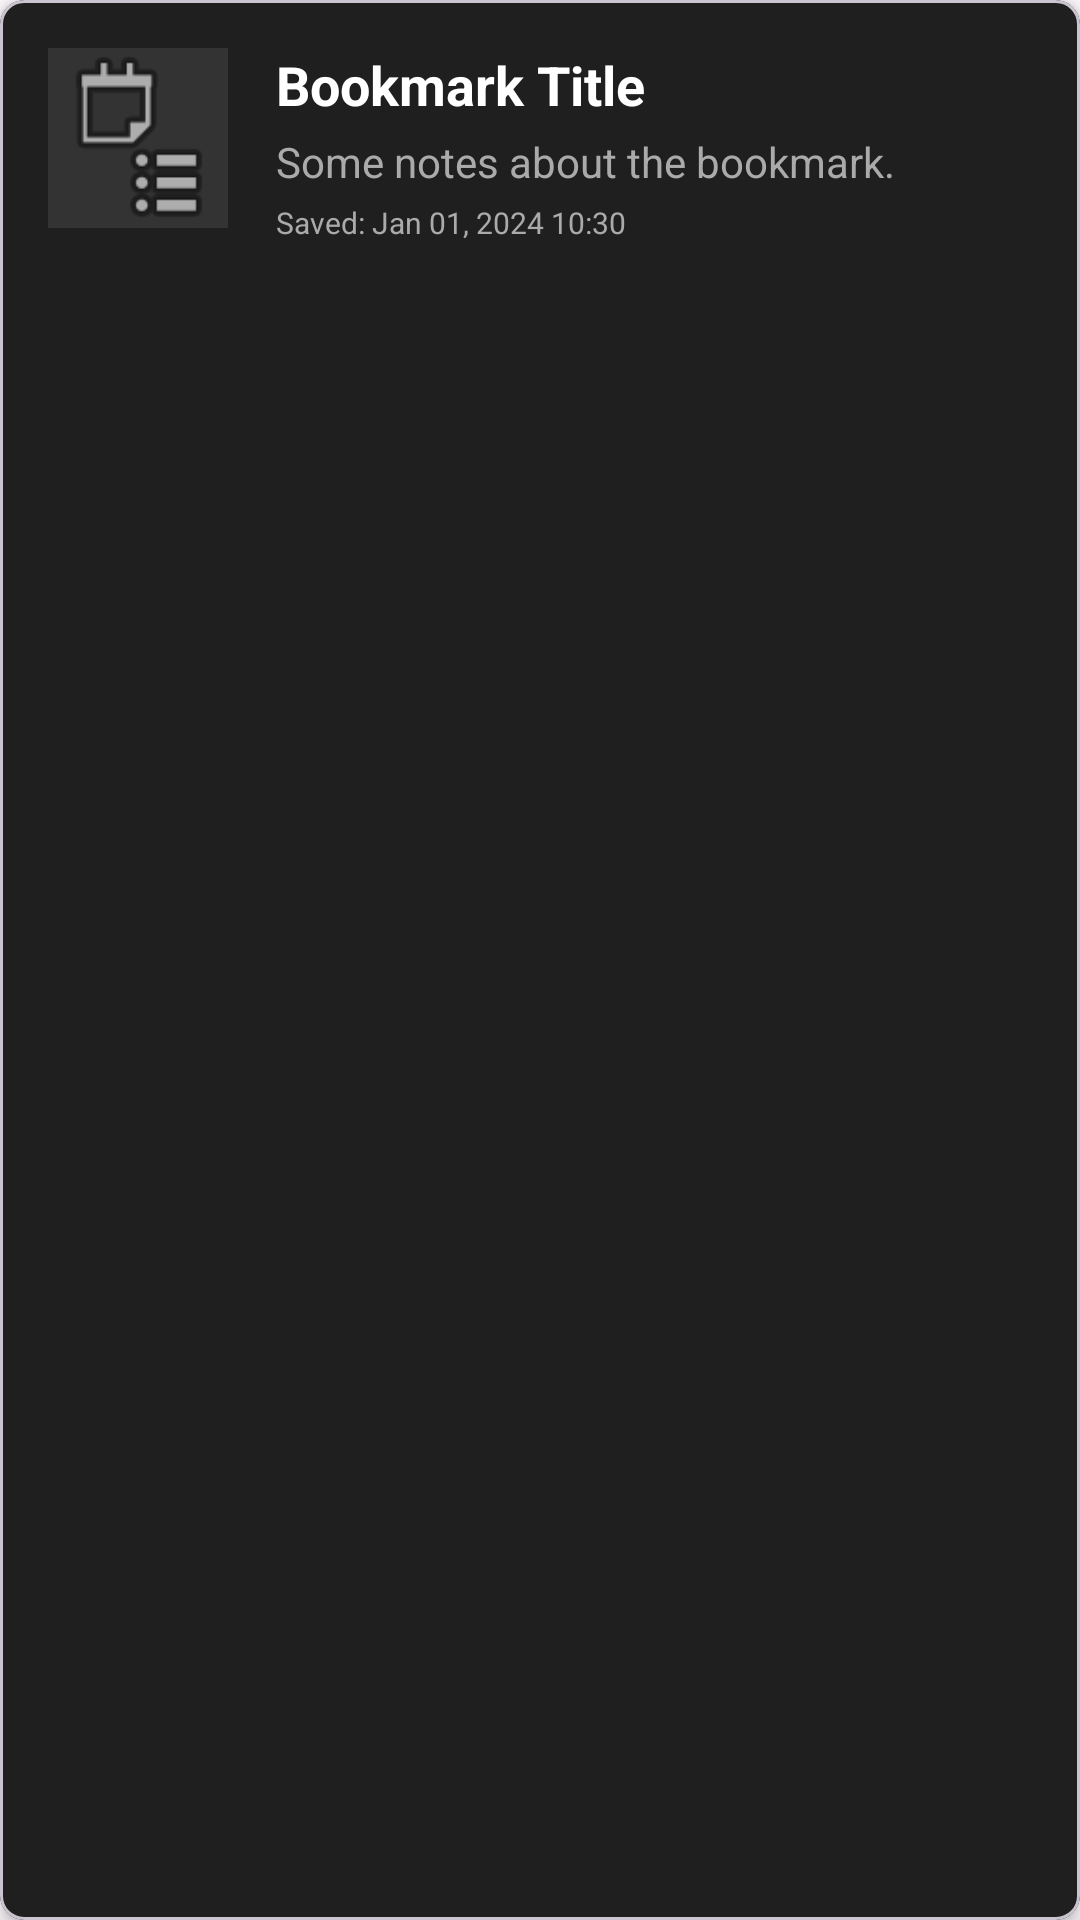

Where icons sit on this 1080×1920 app screen, as (x1, y1, x2, y2):
Bookmark Thumbnail: (48, 48, 228, 228)
